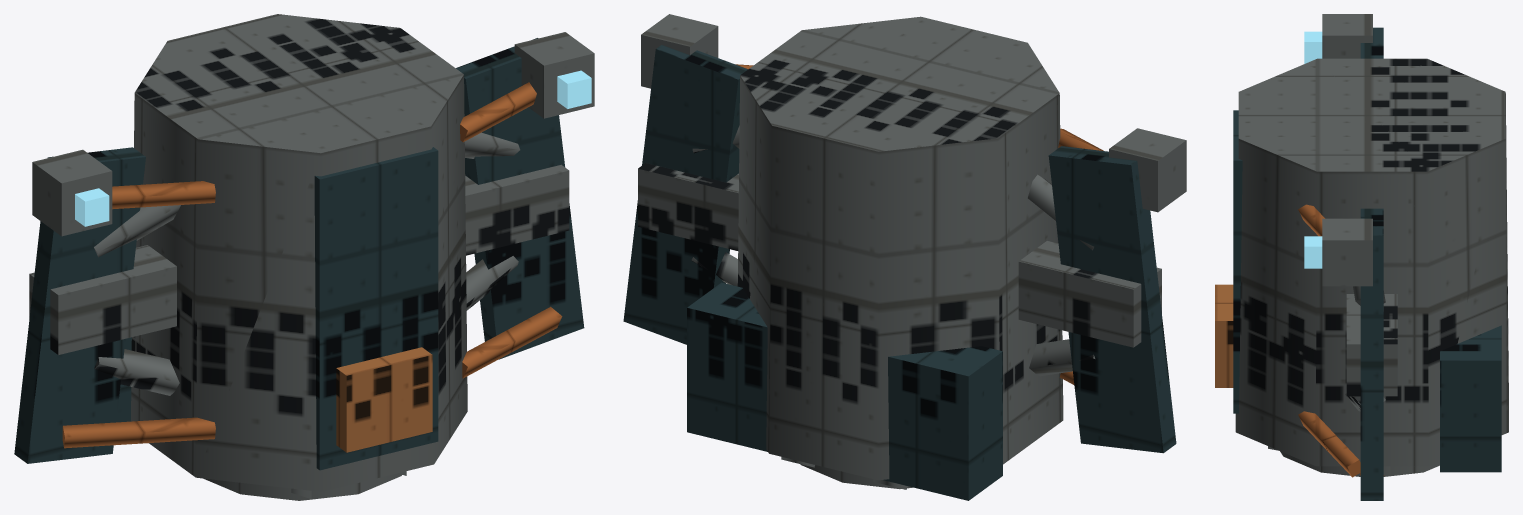
Rendered from section_machinery.glb.
3 renders of one model, left to right at view 1: azimuth 30°, elevation 25°; view 2: azimuth 150°, elevation 25°; view 3: azimuth 270°, elevation 25°, orthographic. The views are drawn at different scales.
Visible parts, largest first — view 1: merged-646a6c, merged-263c43, merged-a56233, merged-ae7040, merged-a3e9ff; view 2: merged-646a6c, merged-263c43, merged-a56233; view 3: merged-646a6c, merged-263c43, merged-ae7040, merged-a56233, merged-a3e9ff.
Boxes of the visible parts, left/top/right/bottom form: merged-646a6c: left=29, top=14, right=594, bottom=500; merged-263c43: left=14, top=38, right=584, bottom=470; merged-a56233: left=62, top=82, right=562, bottom=448; merged-ae7040: left=336, top=347, right=432, bottom=452; merged-a3e9ff: left=75, top=70, right=591, bottom=226; merged-646a6c: left=638, top=14, right=1186, bottom=489; merged-263c43: left=623, top=45, right=1176, bottom=500; merged-a56233: left=735, top=64, right=1103, bottom=384; merged-646a6c: left=1235, top=14, right=1508, bottom=476; merged-263c43: left=1233, top=27, right=1501, bottom=500; merged-ae7040: left=1215, top=284, right=1233, bottom=387; merged-a56233: left=1298, top=204, right=1384, bottom=477; merged-a3e9ff: left=1304, top=31, right=1322, bottom=268.
Size of the model in its own units: 6.81 by 4.3 by 3.58.
Materials: 5 (4 with a texture image).
